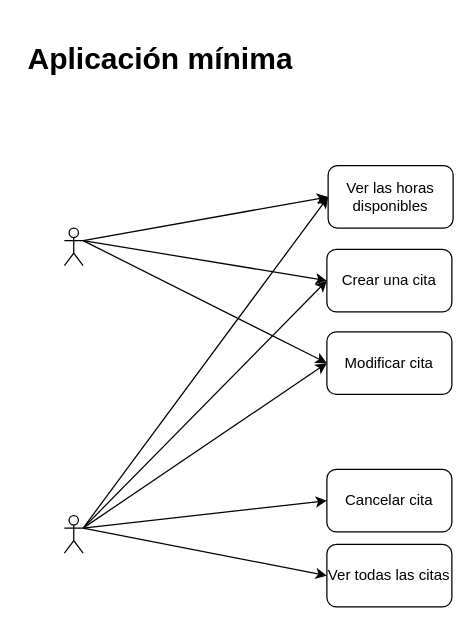
Some shapes in this 475 by 629 pixel diagram are drawn without their labels. The centre of each missing label's shape, as x and y in pixels:
"Administrador" goes at [73,533].
"Cliente" goes at [73,246].
